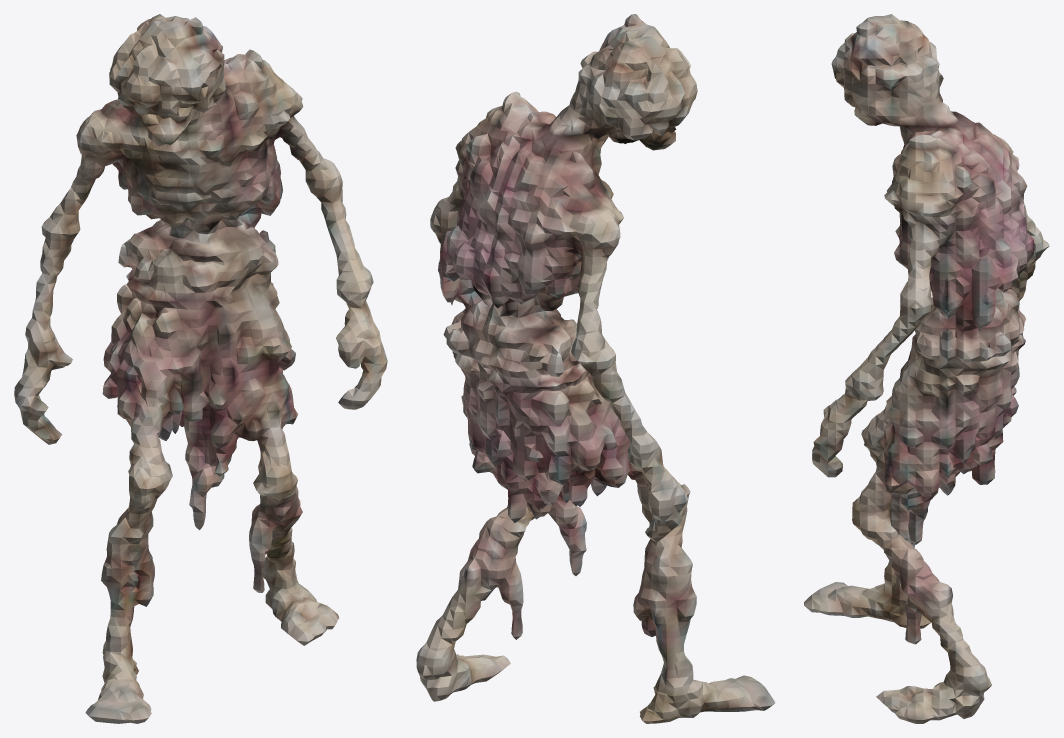
File: bones.glb
3 renders of one model, left to right at view 1: azimuth 30°, elevation 25°; view 2: azimuth 150°, elevation 25°; view 3: azimuth 270°, elevation 25°, orthographic. The views are drawn at different scales.
Visible parts, largest first — view 1: geometry_0; view 2: geometry_0; view 3: geometry_0.
Part boxes in pixels (bbox=[...]): geometry_0: bbox=[14, 14, 387, 723]; geometry_0: bbox=[416, 14, 775, 723]; geometry_0: bbox=[804, 14, 1049, 723].
Size of the model in its own units: 0.4766 by 1.02 by 0.3592.
